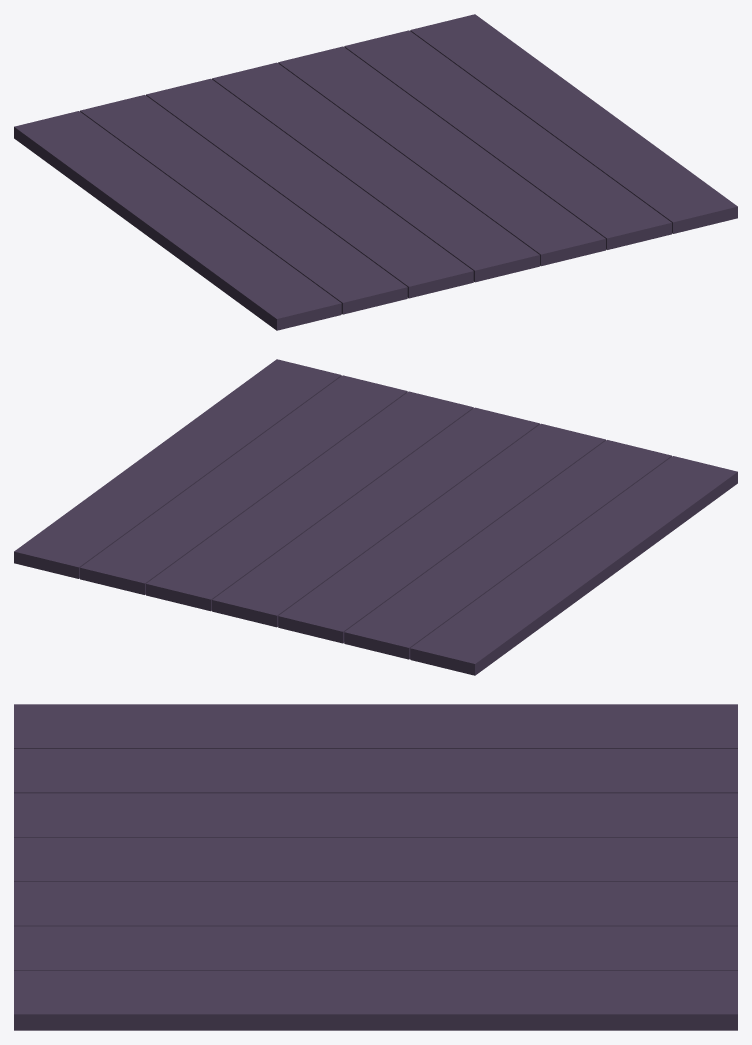
Rendered from psio.fbx.
3 renders of one model, top to bottom at view 1: azimuth 30°, elevation 25°; view 2: azimuth 150°, elevation 25°; view 3: azimuth 270°, elevation 25°, orthographic. The views are drawn at different scales.
Visible parts, largest first — view 1: piso; view 2: piso; view 3: piso.
Boxes of the visible parts, x1,y1,x2,y2 form: piso: (14, 14, 737, 330); piso: (14, 359, 737, 675); piso: (14, 704, 737, 1030).
Size of the model in its own units: 5.19 by 0.1258 by 5.12.
